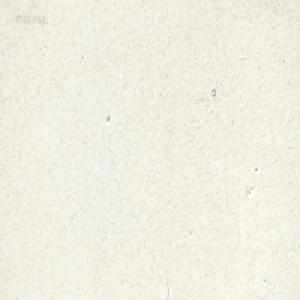Washer: (210, 86, 216, 97)
